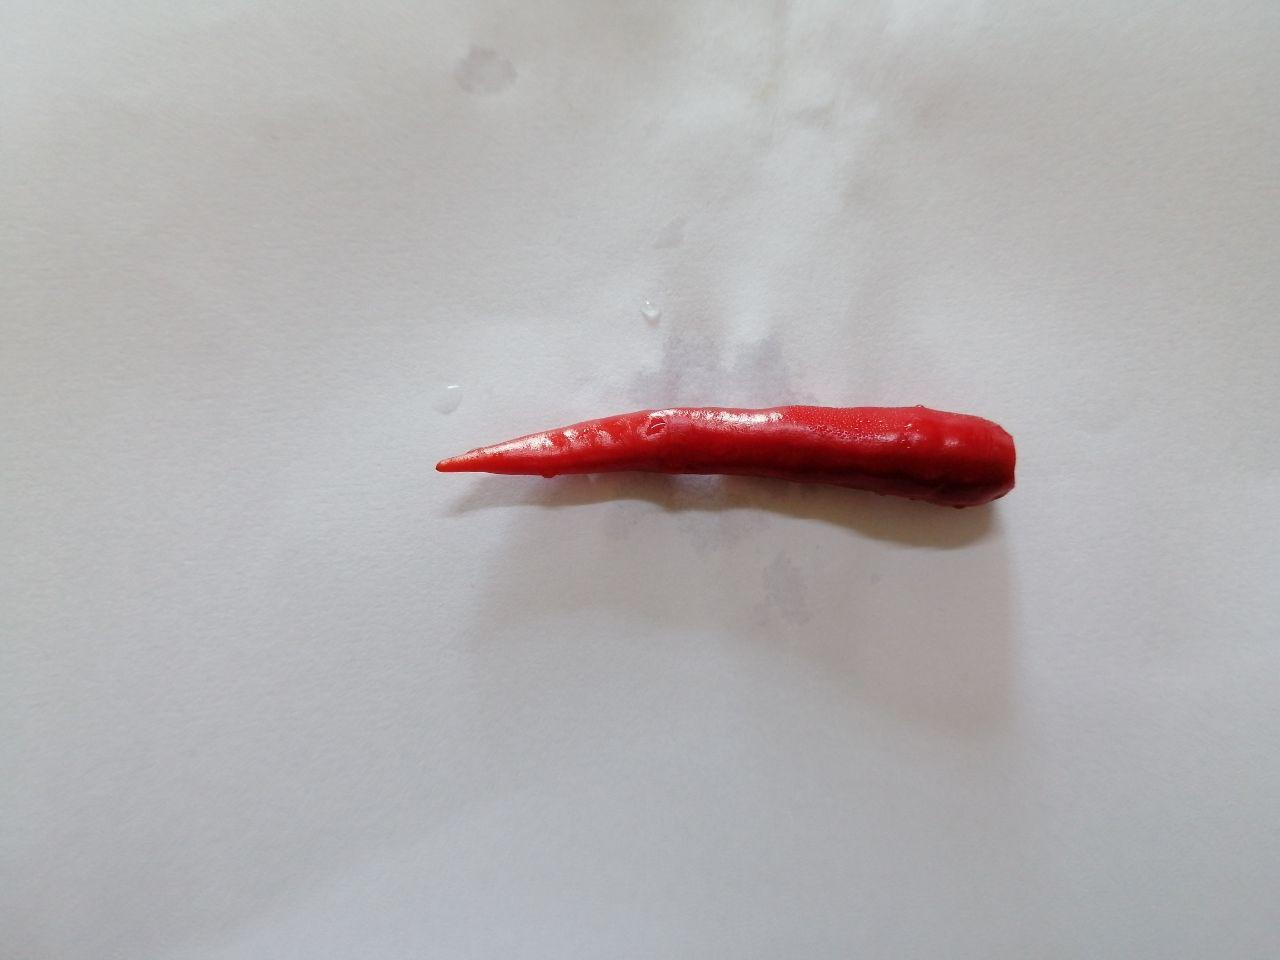lada merah: (427, 381, 1028, 549)
